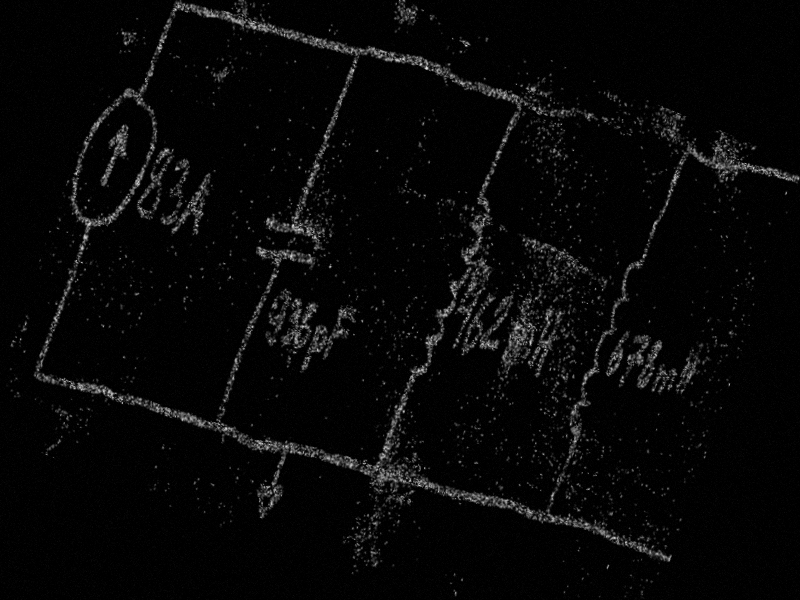2: (476, 287, 520, 359)
3: (151, 153, 199, 233), (274, 291, 310, 353)
4: (440, 271, 486, 355)
6: (454, 283, 500, 364), (600, 325, 634, 384)
7: (611, 326, 654, 397)
8: (130, 139, 181, 228), (288, 294, 325, 356), (632, 333, 667, 396)
9: (253, 280, 298, 355)
A: (171, 160, 224, 245)
F: (317, 301, 359, 369)
H: (521, 304, 567, 383), (670, 341, 704, 401)
m: (497, 314, 541, 371), (645, 358, 681, 403)
p: (295, 320, 333, 383)
